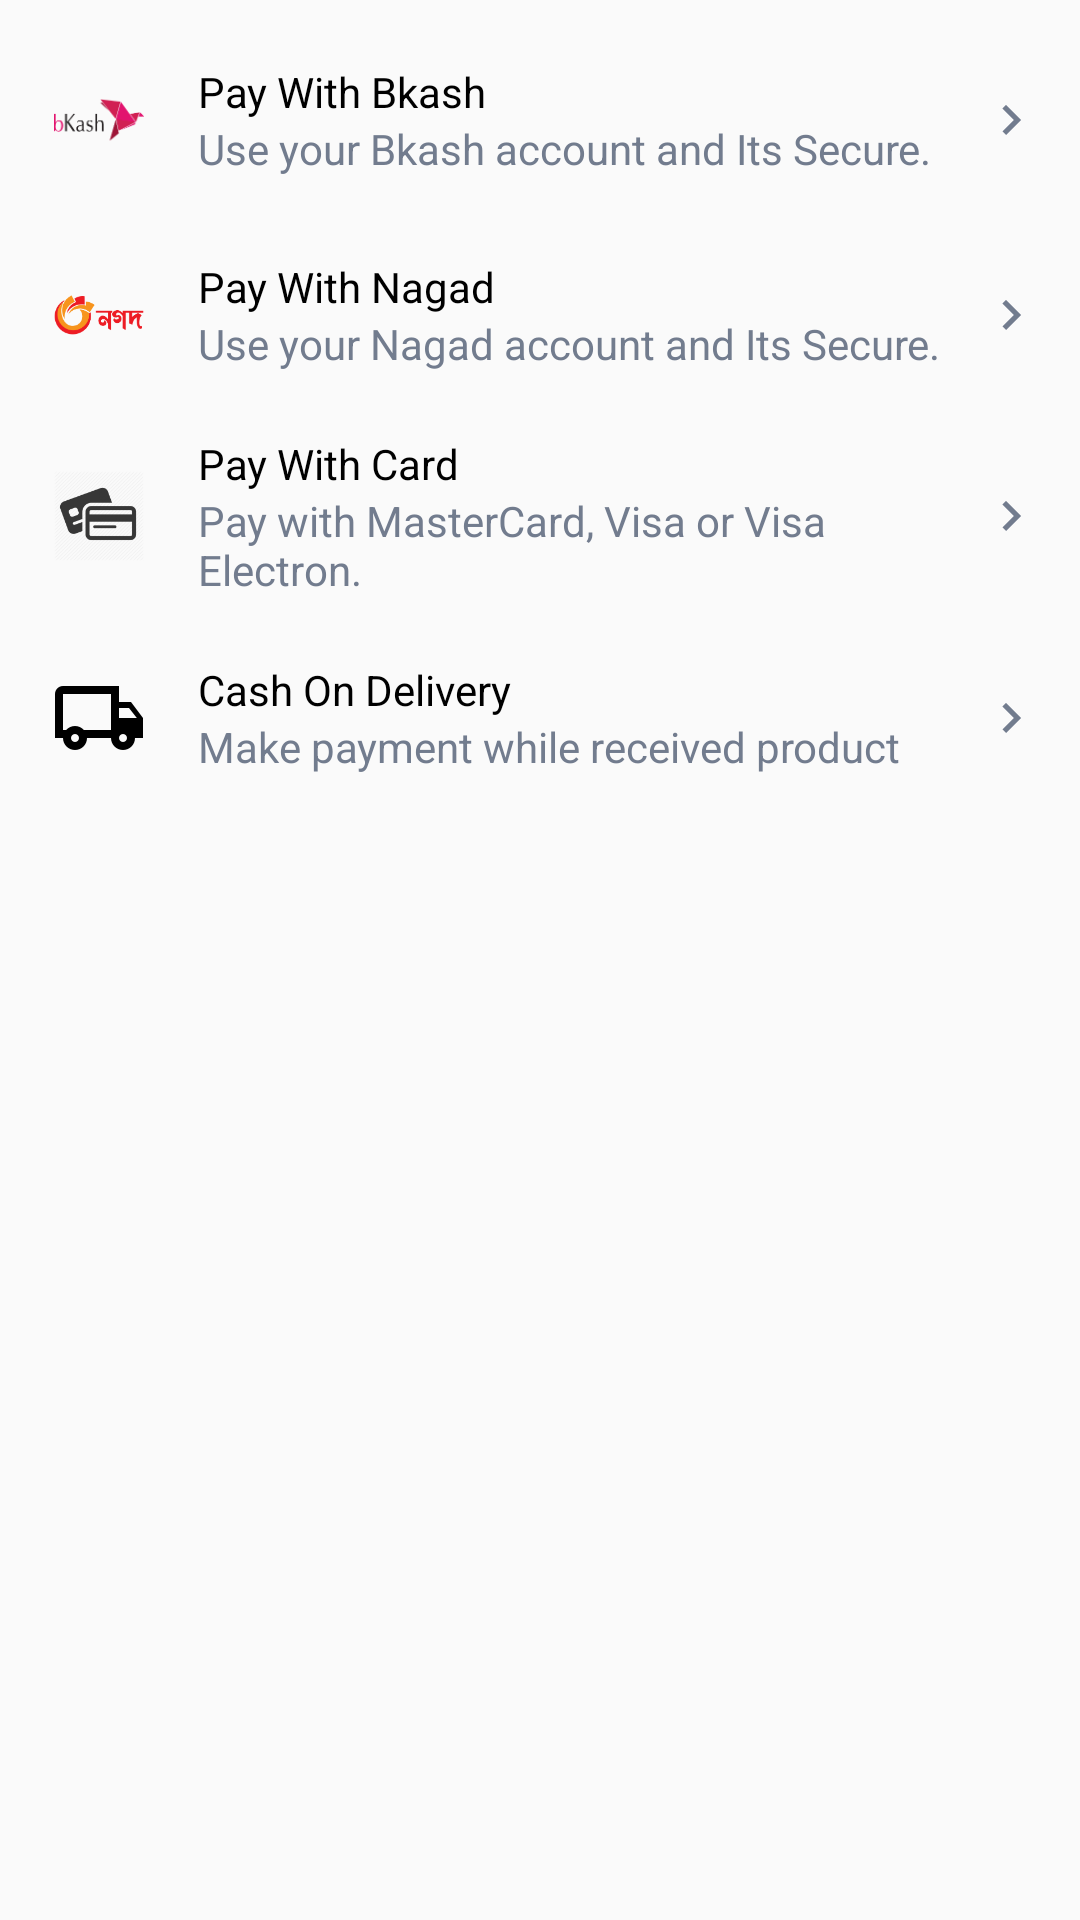

Where to tap for icons on this 1080 x 1920 app screen, as (x=x, y=y):
cod: (x=99, y=718)
right: (x=1011, y=120), (x=1011, y=315), (x=1011, y=516), (x=1011, y=718)
